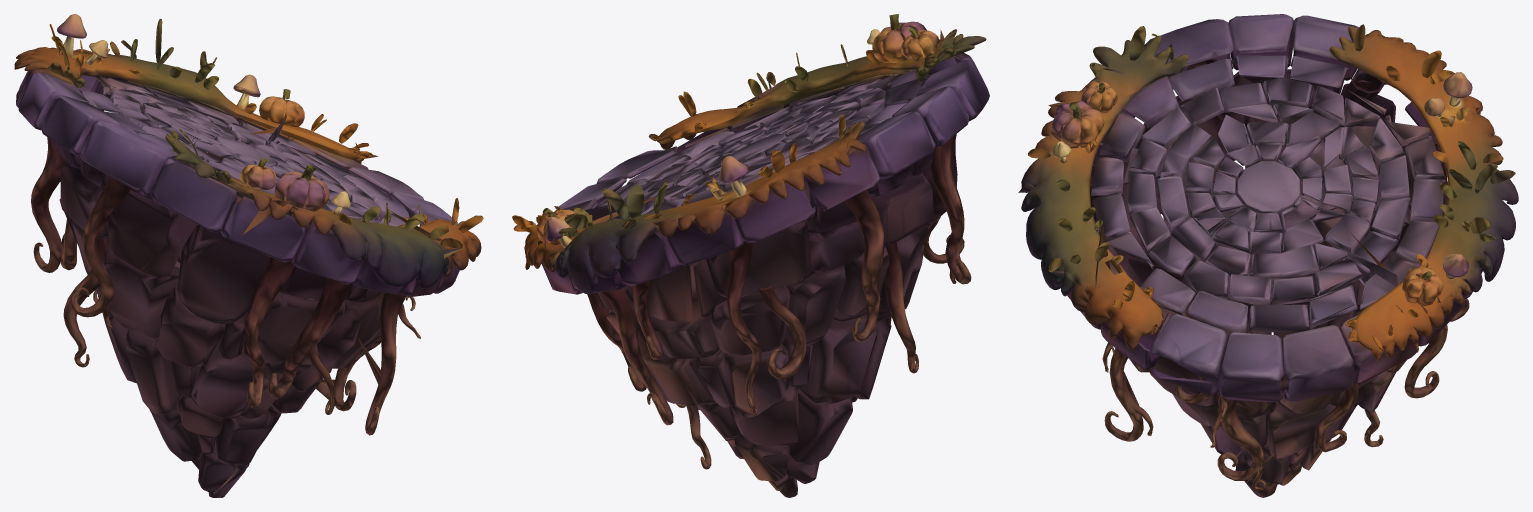
The model's file is L7_FloatIsland_LOD0.fbx.
3 renders of one model, left to right at view 1: azimuth 30°, elevation 25°; view 2: azimuth 150°, elevation 25°; view 3: azimuth 270°, elevation 25°, orthographic. The views are drawn at different scales.
Parts seen in each view (by area): view 1: L7_FloatIsland_LOD0; view 2: L7_FloatIsland_LOD0; view 3: L7_FloatIsland_LOD0.
Boxes of the visible parts, <box> form: L7_FloatIsland_LOD0: <box>14,14,483,497</box>; L7_FloatIsland_LOD0: <box>512,14,989,497</box>; L7_FloatIsland_LOD0: <box>1018,14,1518,497</box>.
Size of the model in its own units: 5.59 by 6 by 6.43.
1 material, 1 textured.
